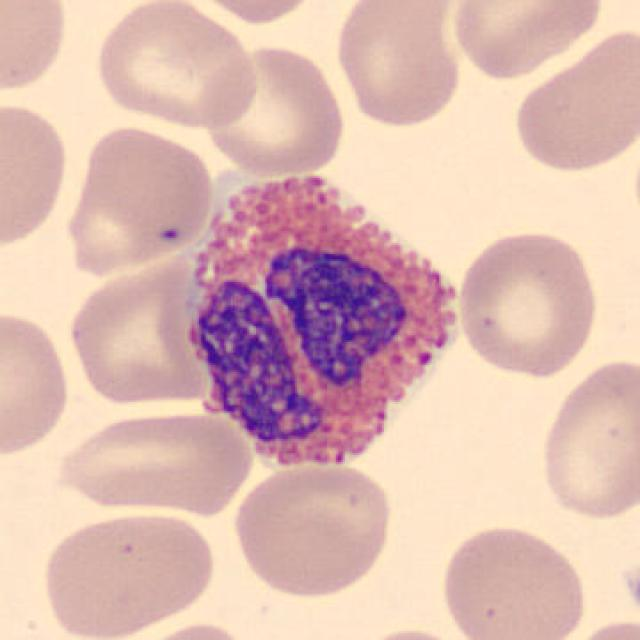Nuclei: (188, 279, 322, 443), (265, 249, 401, 384)
